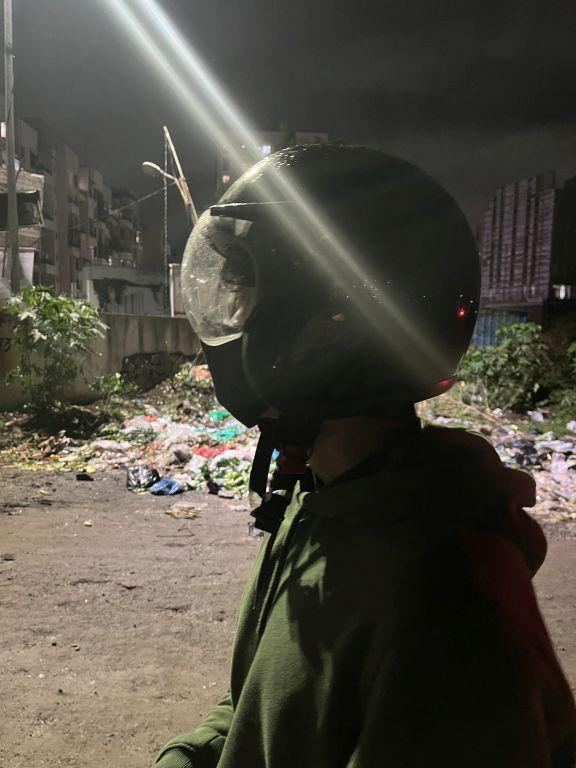helmet: (174, 134, 484, 429)
